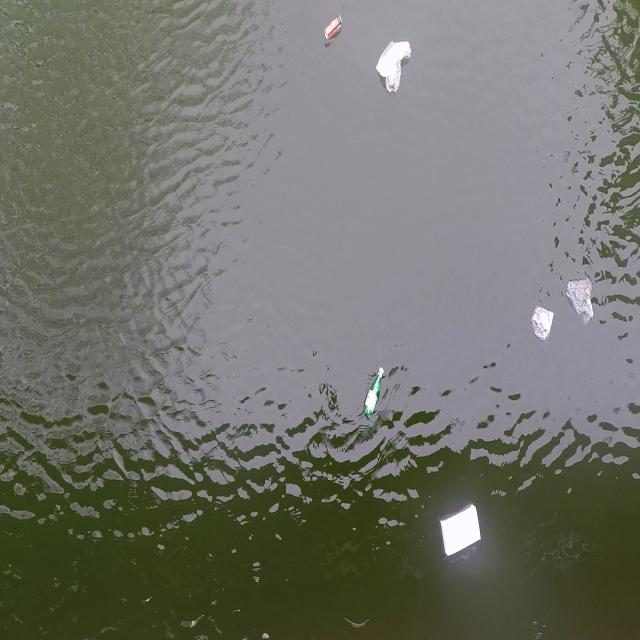Autre plastique: (435, 500, 484, 560)
Bouteille plastique: (362, 364, 386, 421)
Non plastique: (322, 12, 344, 45)
Sac plastique: (375, 31, 414, 98), (566, 269, 600, 327), (529, 303, 558, 345)
